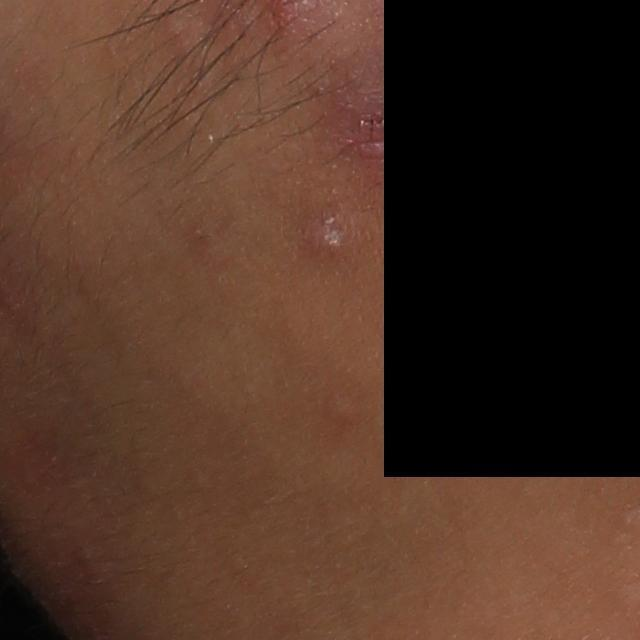papule: (300, 199, 354, 264)
